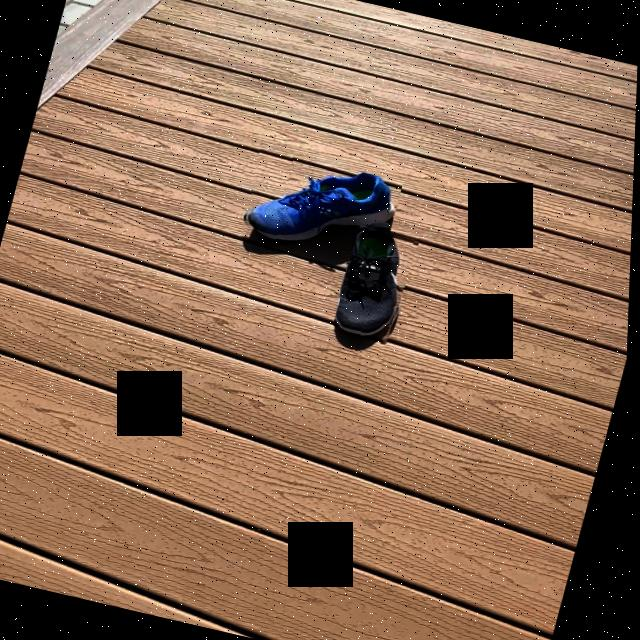shoe: (247, 173, 395, 247), (335, 230, 402, 354)
